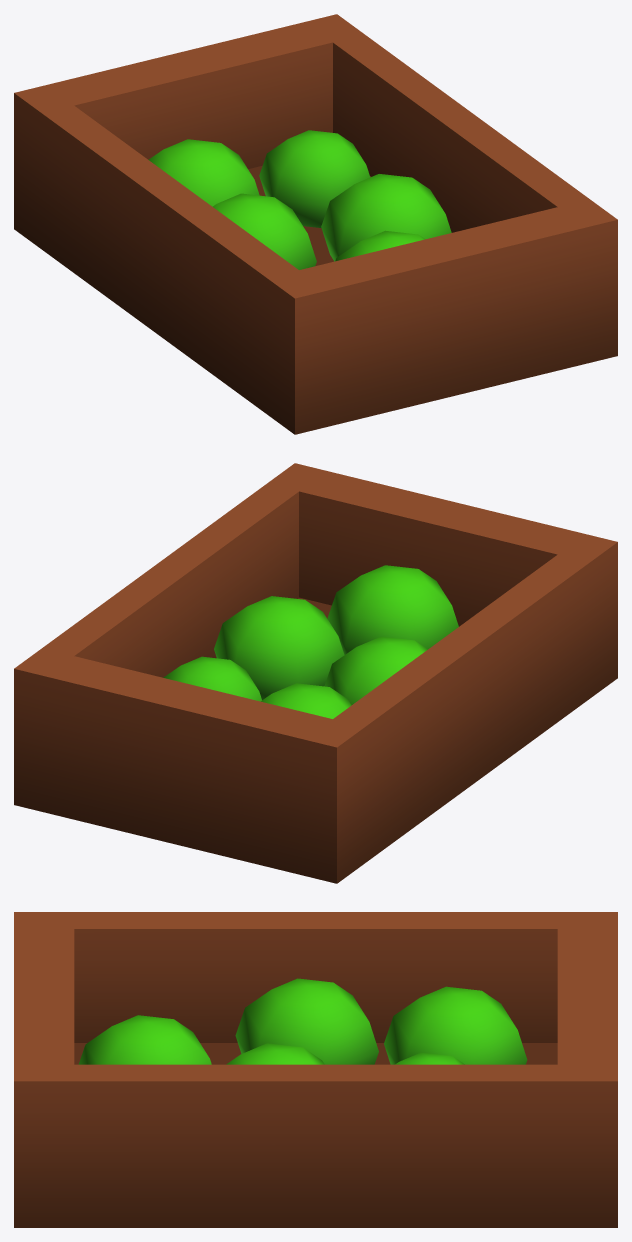
File: apple_02.fbx
3 renders of one model, top to bottom at view 1: azimuth 30°, elevation 25°; view 2: azimuth 150°, elevation 25°; view 3: azimuth 270°, elevation 25°, orthographic. The views are drawn at different scales.
Visible parts, largest first — view 1: Apple_02; view 2: Apple_02; view 3: Apple_02.
Boxes of the visible parts, x1=… form: Apple_02: x1=14, y1=14, x2=617, y2=434; Apple_02: x1=14, y1=463, x2=617, y2=883; Apple_02: x1=14, y1=912, x2=617, y2=1227.
Size of the model in its own units: 32.44 by 13.08 by 48.85.
